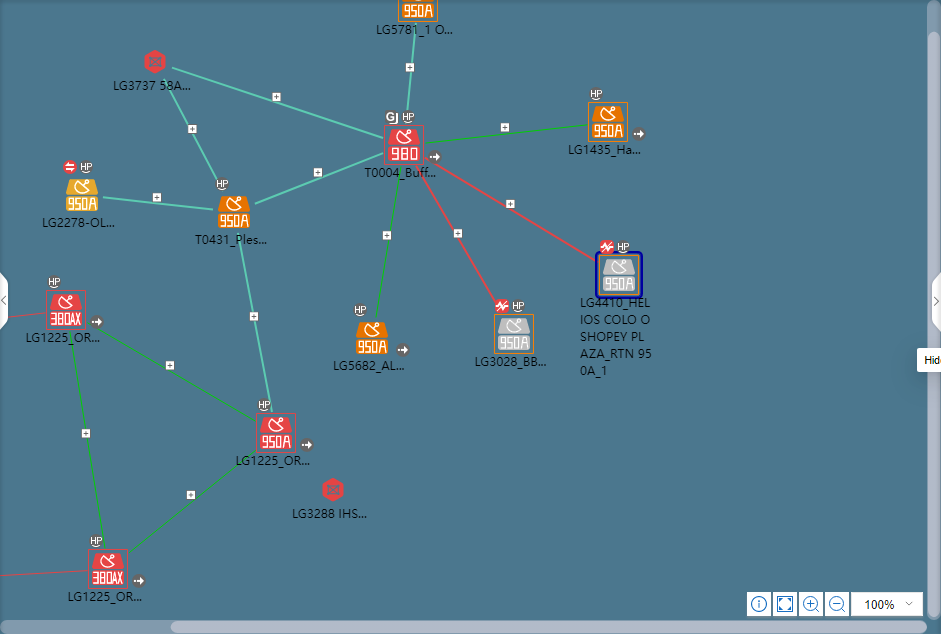Link_Blue: (181, 67, 381, 142), (250, 149, 382, 205), (238, 246, 278, 410), (162, 79, 216, 183), (121, 196, 213, 211), (403, 20, 416, 113)
Link_Green: (91, 326, 260, 424), (126, 449, 253, 552), (68, 332, 106, 546), (373, 167, 407, 316), (426, 120, 590, 148)
Link_Red: (426, 155, 593, 266), (415, 167, 500, 311), (3, 567, 84, 576), (9, 308, 49, 316)
RTN_Gray: (597, 255, 637, 293), (497, 320, 531, 354)
RTN_Orange: (591, 102, 625, 142), (221, 196, 254, 230), (356, 320, 390, 352), (403, 2, 437, 17)
RTN_Red: (91, 549, 131, 589), (385, 126, 425, 166), (256, 414, 294, 454), (50, 291, 82, 330)
RTN_Yellow: (68, 179, 101, 213)
